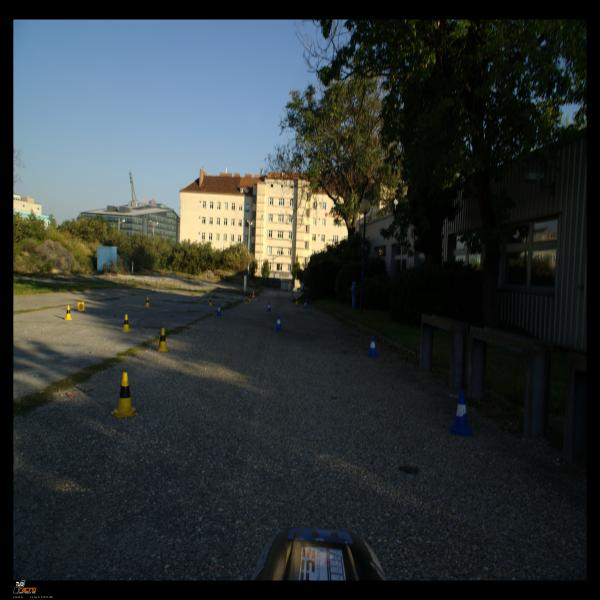blue_cone: (449, 391, 473, 437), (367, 336, 378, 356), (274, 314, 284, 330), (216, 304, 222, 317), (266, 302, 272, 312), (304, 300, 308, 308)
large_orange_cone: (251, 289, 255, 300), (291, 291, 295, 301)
yellow_cone: (111, 372, 138, 418), (157, 327, 169, 352), (122, 314, 132, 332), (64, 305, 73, 320), (144, 297, 150, 307), (78, 302, 84, 312), (208, 296, 213, 306), (244, 296, 248, 305), (248, 295, 252, 302), (295, 297, 298, 305)
